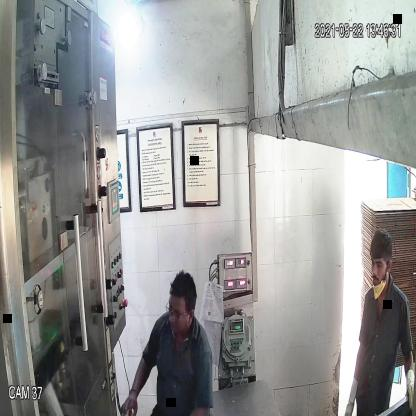goggles: (163, 300, 192, 322)
no_goggles: (366, 253, 390, 276)
